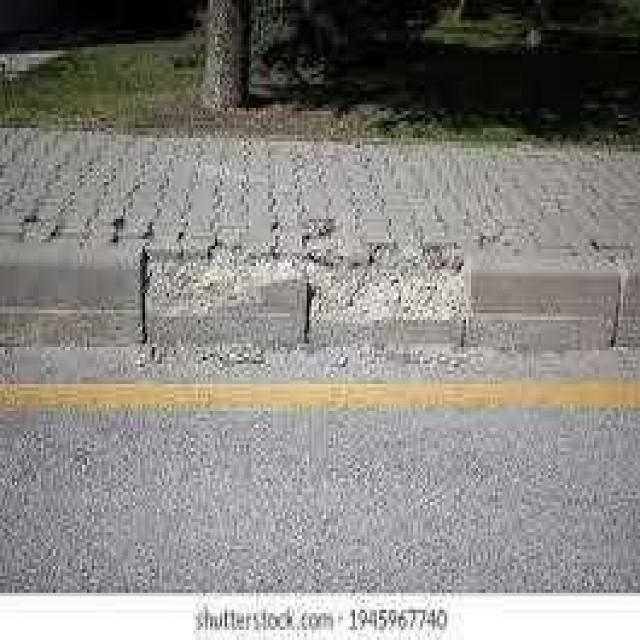curb: (1, 236, 640, 363)
